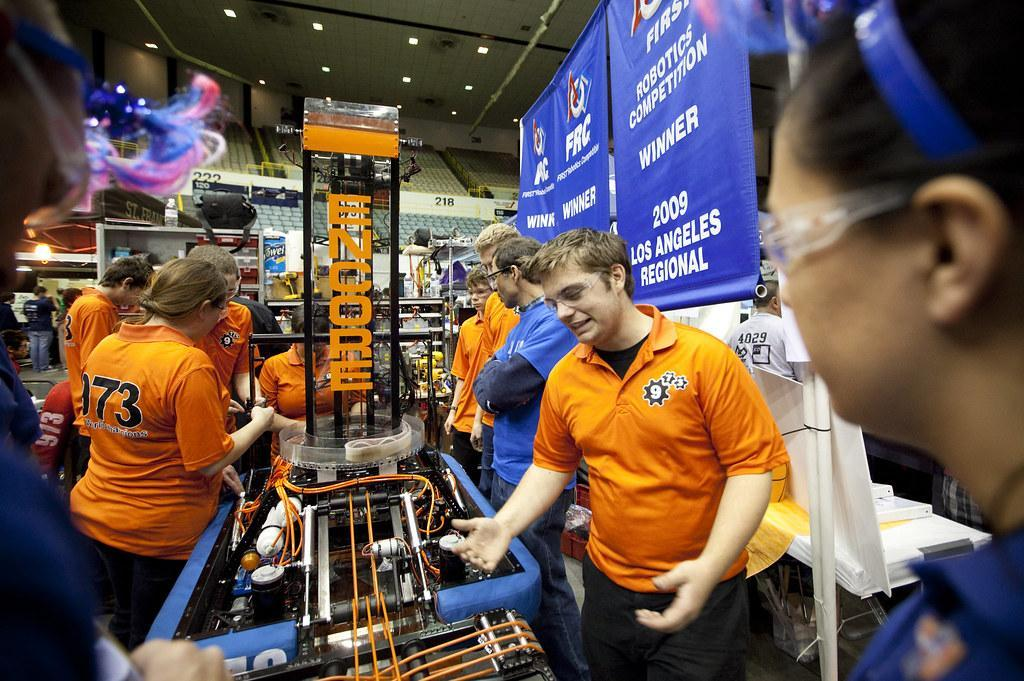robot: (125, 86, 559, 681)
